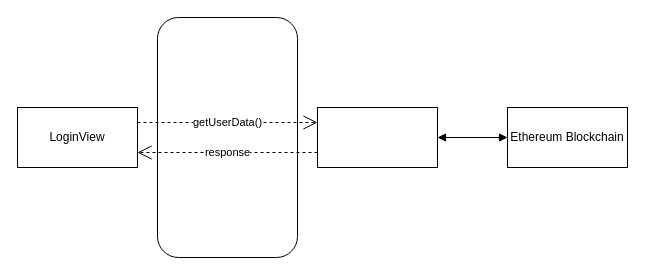
Some shapes in this 645 by 275 pixel diagram are drawn without their labels. Each missing label, with the centre of its shape:
HTTP protocol: (x=227, y=137)
Web3.js: (x=377, y=137)
